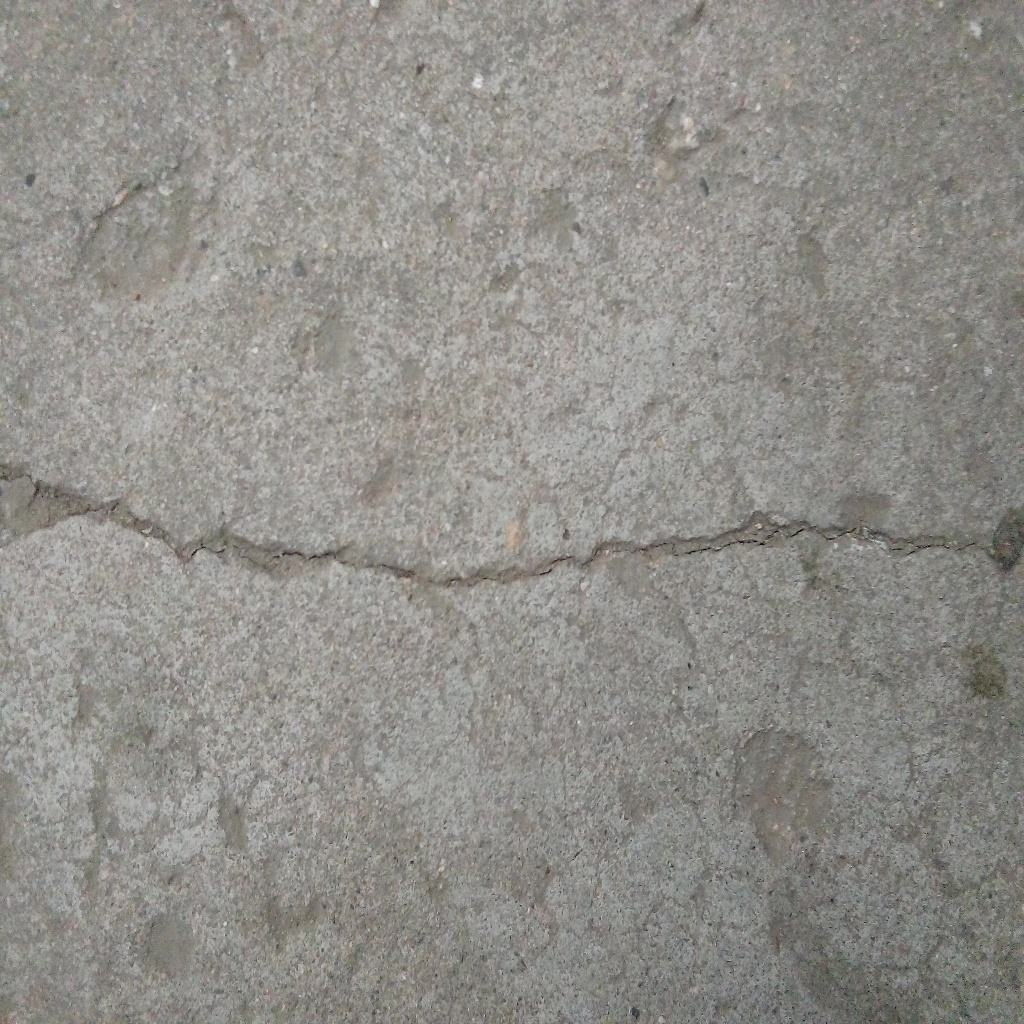Crack: (1, 464, 1024, 595)
Spalling: (71, 156, 211, 309), (731, 714, 832, 869), (146, 911, 199, 984)
